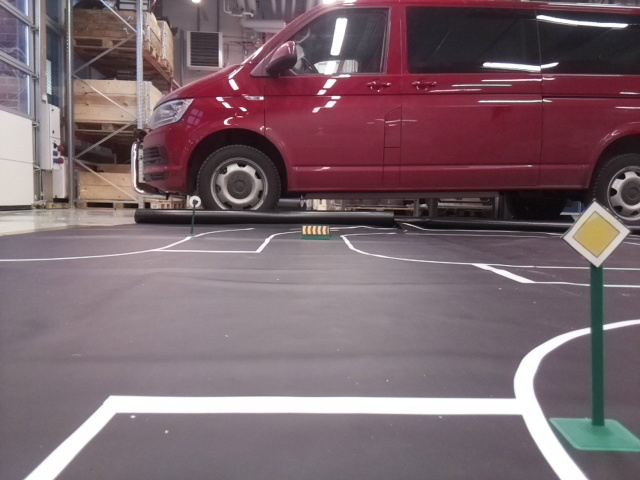Priority: (560, 201, 628, 268)
